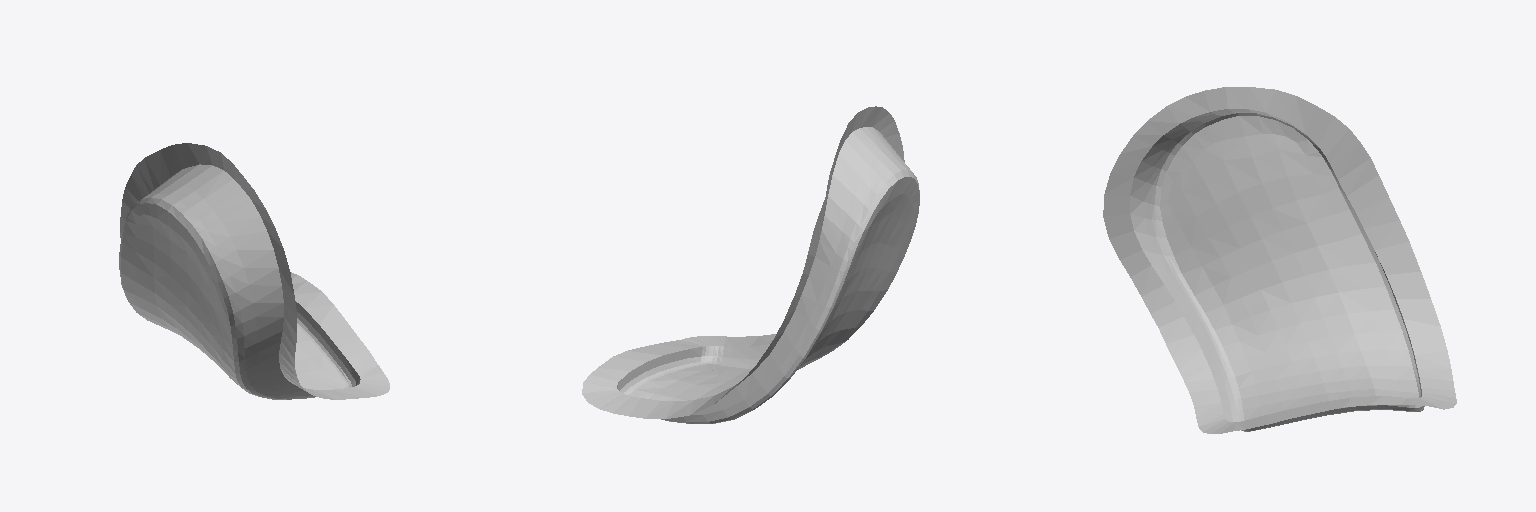
The model's file is R_grip.obj.
3 renders of one model, left to right at view 1: azimuth 30°, elevation 25°; view 2: azimuth 150°, elevation 25°; view 3: azimuth 270°, elevation 25°, orthographic.
Visible parts, largest first — view 1: R_grip Ctrl_R; view 2: R_grip Ctrl_R; view 3: R_grip Ctrl_R.
Boxes of the visible parts, x1=… form: R_grip Ctrl_R: x1=119, y1=143, x2=389, y2=399; R_grip Ctrl_R: x1=582, y1=106, x2=919, y2=423; R_grip Ctrl_R: x1=1103, y1=87, x2=1456, y2=433.
Size of the model in its own units: 0.0221 by 0.0264 by 0.0305.